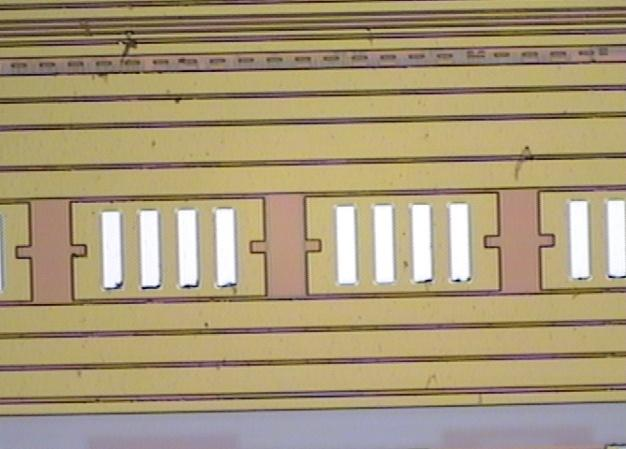PO CONTAMINATION: (66, 8, 551, 413)
